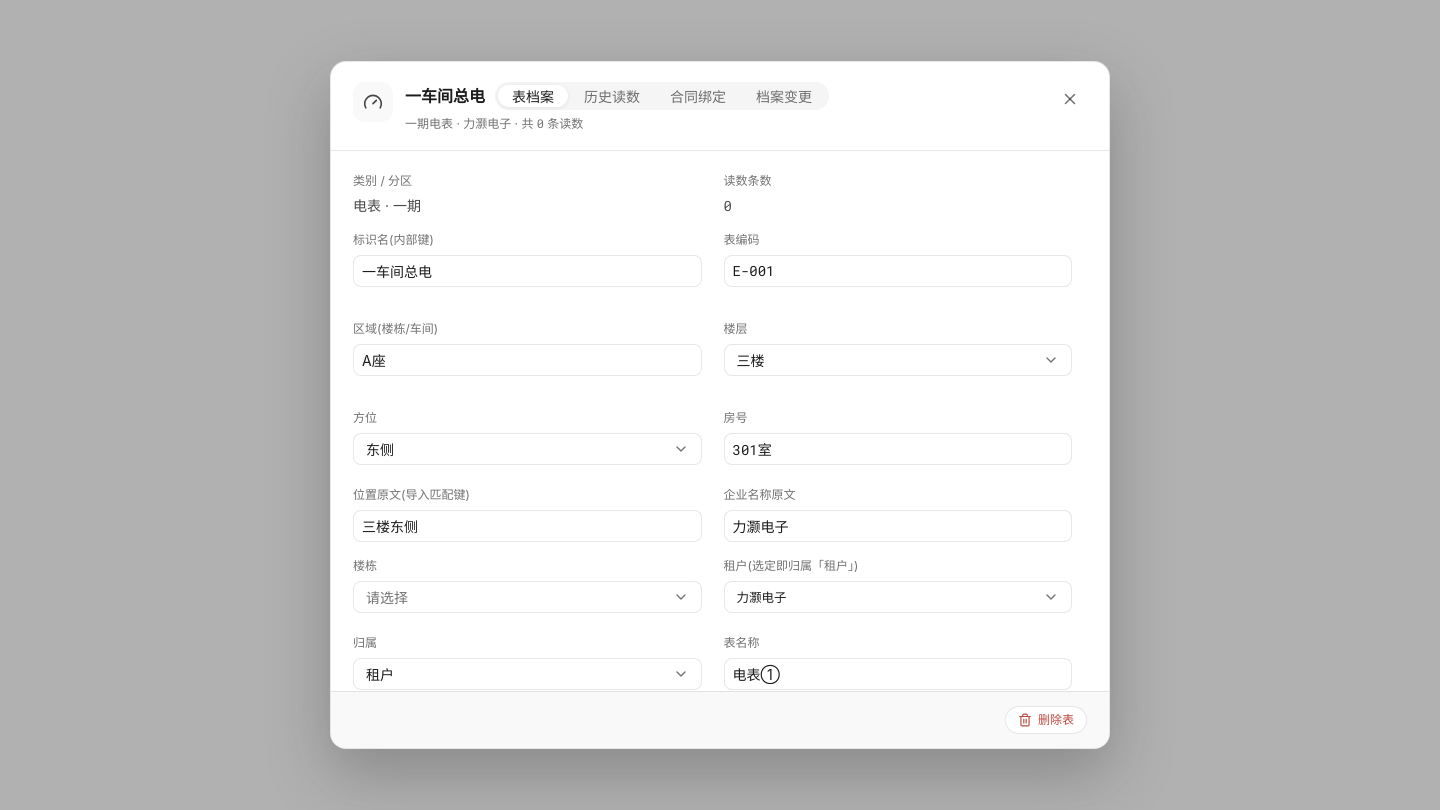
Test: 删除表确认框 › 影响没查出来:错误常驻、确认灰掉;重试成功才清
The width and height of the screenshot is (1440, 810).
What coordinates should you click on to do the following:
click the button "删除表"
I would click on:
 (1046, 720)
Its box is [1005, 706, 1087, 734].
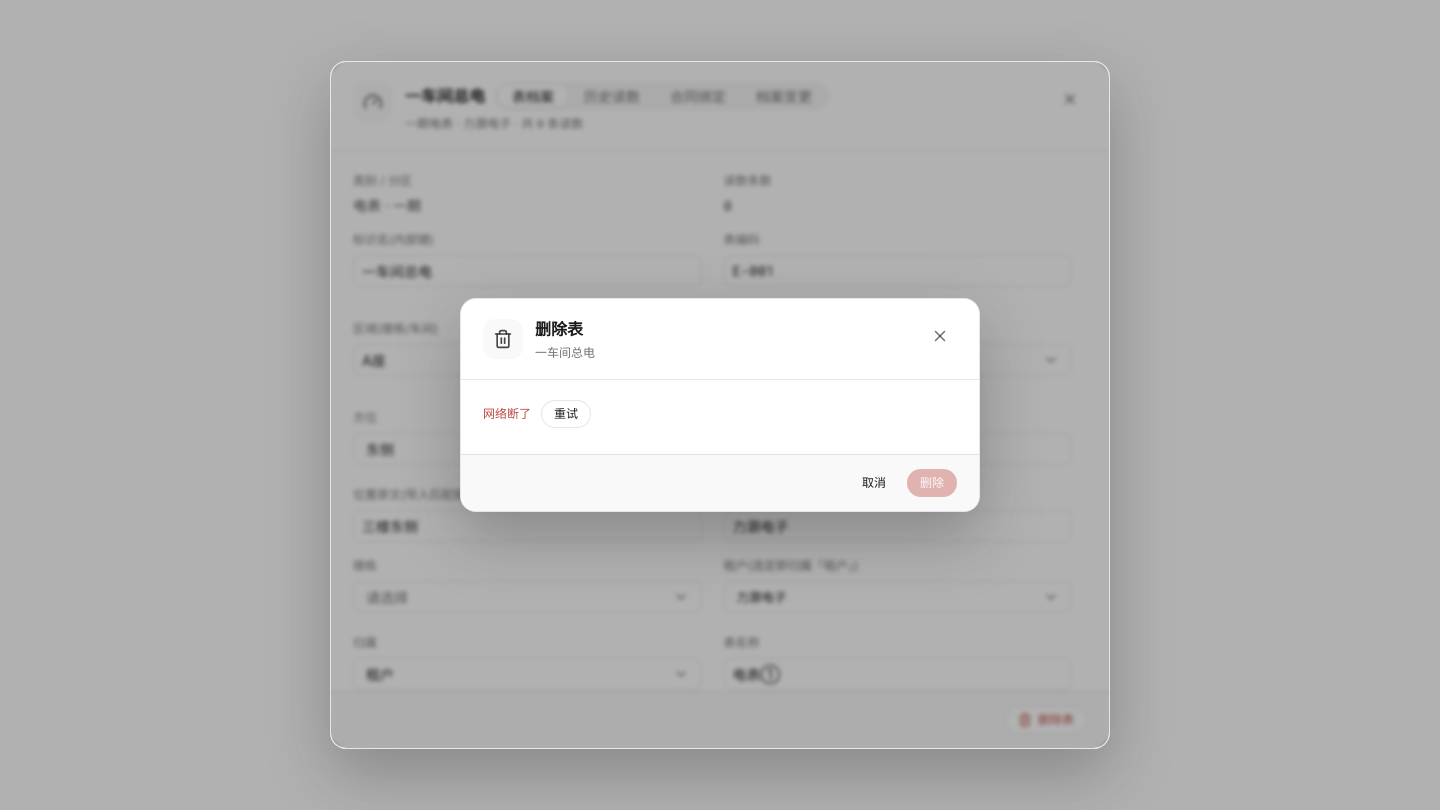
Check: the element with class "dd-err" shows "网络断了", box [483, 406, 531, 421]
Check: the button "删除" is disabled, box [907, 469, 957, 497]
What coordinates should you click on to do the following:
click the button "重试"
I would click on:
 (566, 414)
Its box is [541, 400, 591, 428].
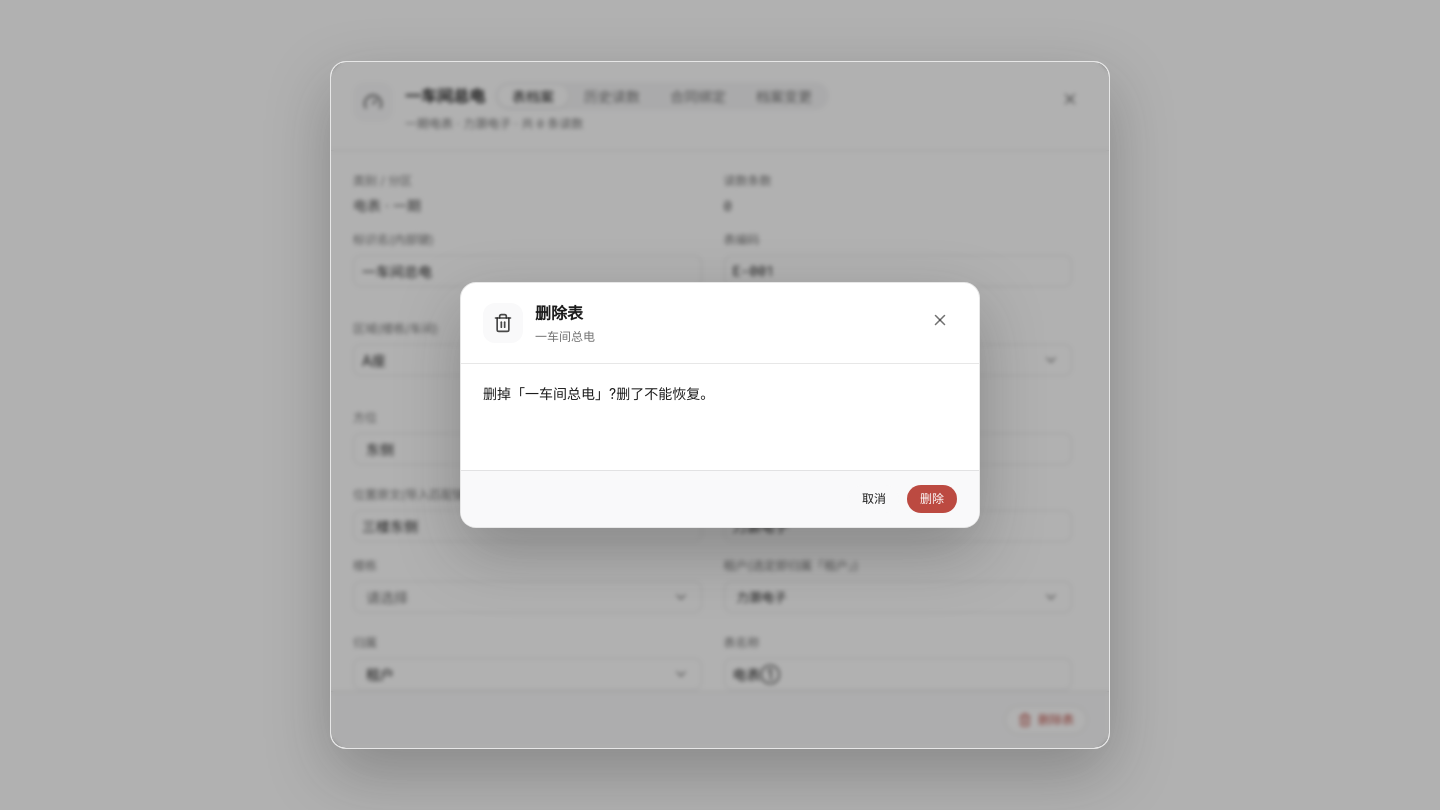
Check: the button "删除" is enabled, box [907, 485, 957, 513]
